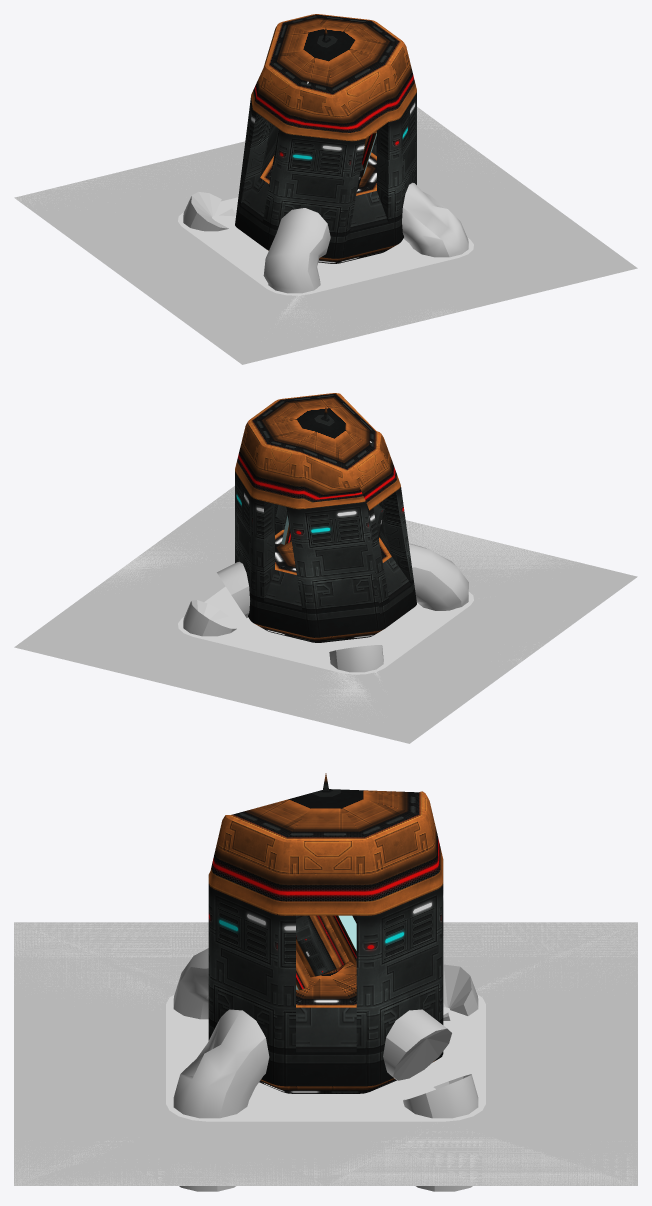
The model's file is ibpgen01.FBX.
3 renders of one model, top to bottom at view 1: azimuth 30°, elevation 25°; view 2: azimuth 150°, elevation 25°; view 3: azimuth 270°, elevation 25°, orthographic. The views are drawn at different scales.
Visible parts, largest first — view 1: terrain, mainbody002, pipes003, terrain__h; view 2: terrain, mainbody002, terrain__h, pipes003; view 3: terrain, mainbody002, terrain__h, pipes003, turbine__e.
Part boxes in pixels (<box>): terrain: <box>14,107,637,364</box>; mainbody002: <box>235,14,416,263</box>; pipes003: <box>183,182,468,293</box>; terrain__h: <box>15,107,494,335</box>; terrain: <box>14,486,637,743</box>; mainbody002: <box>235,393,416,642</box>; terrain__h: <box>94,487,585,717</box>; pipes003: <box>183,543,468,672</box>; terrain: <box>14,922,637,1185</box>; mainbody002: <box>208,773,443,1093</box>; terrain__h: <box>14,922,637,1185</box>; pipes003: <box>173,948,478,1191</box>; turbine__e: <box>296,915,356,990</box>.
Size of what is drawn, in the model's own units: 32 by 32 by 20.05.
